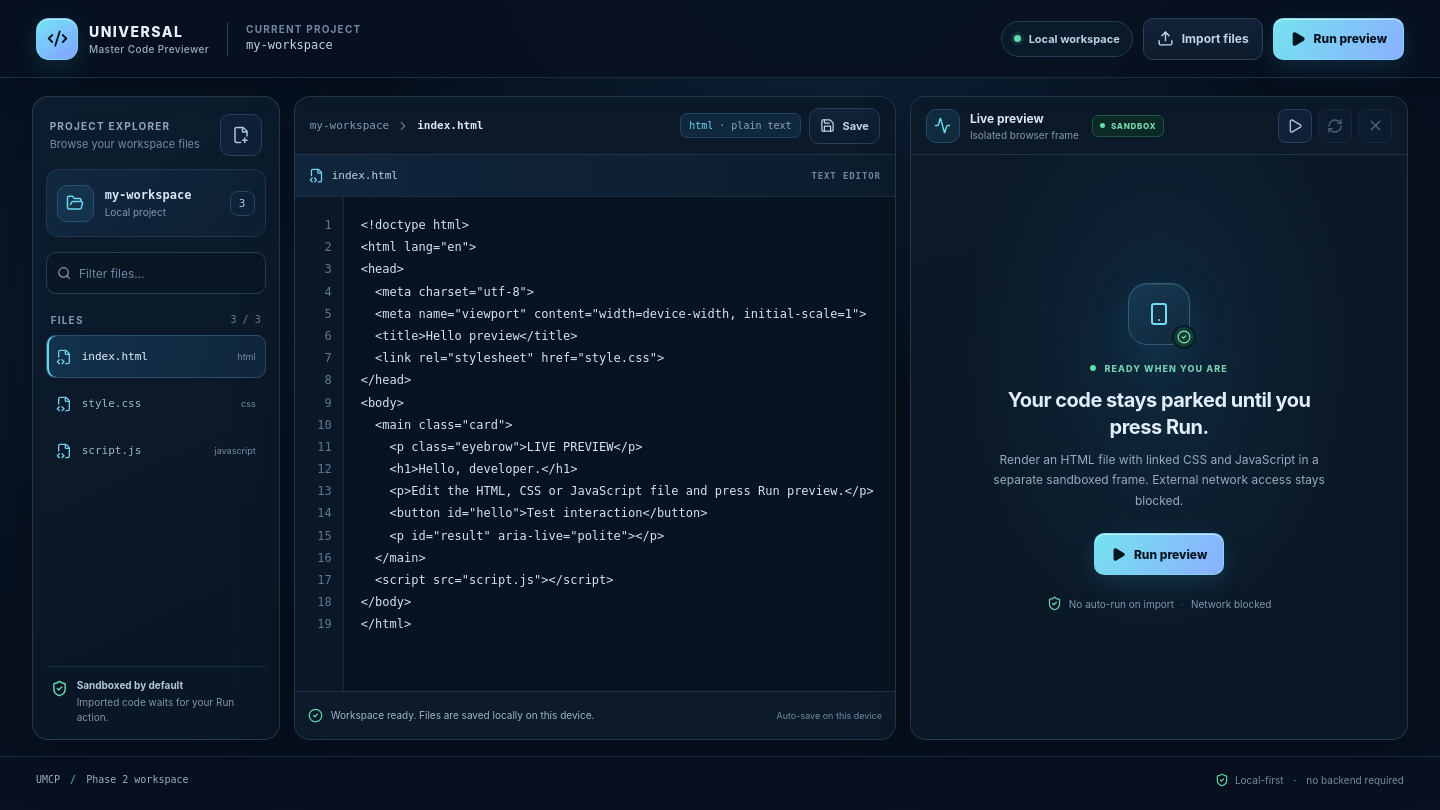
workspace UI › creates a file through the accessible dialog
This screenshot has width=1440, height=810.
Click the button named "New file" at [241, 135], box [220,114,262,156]
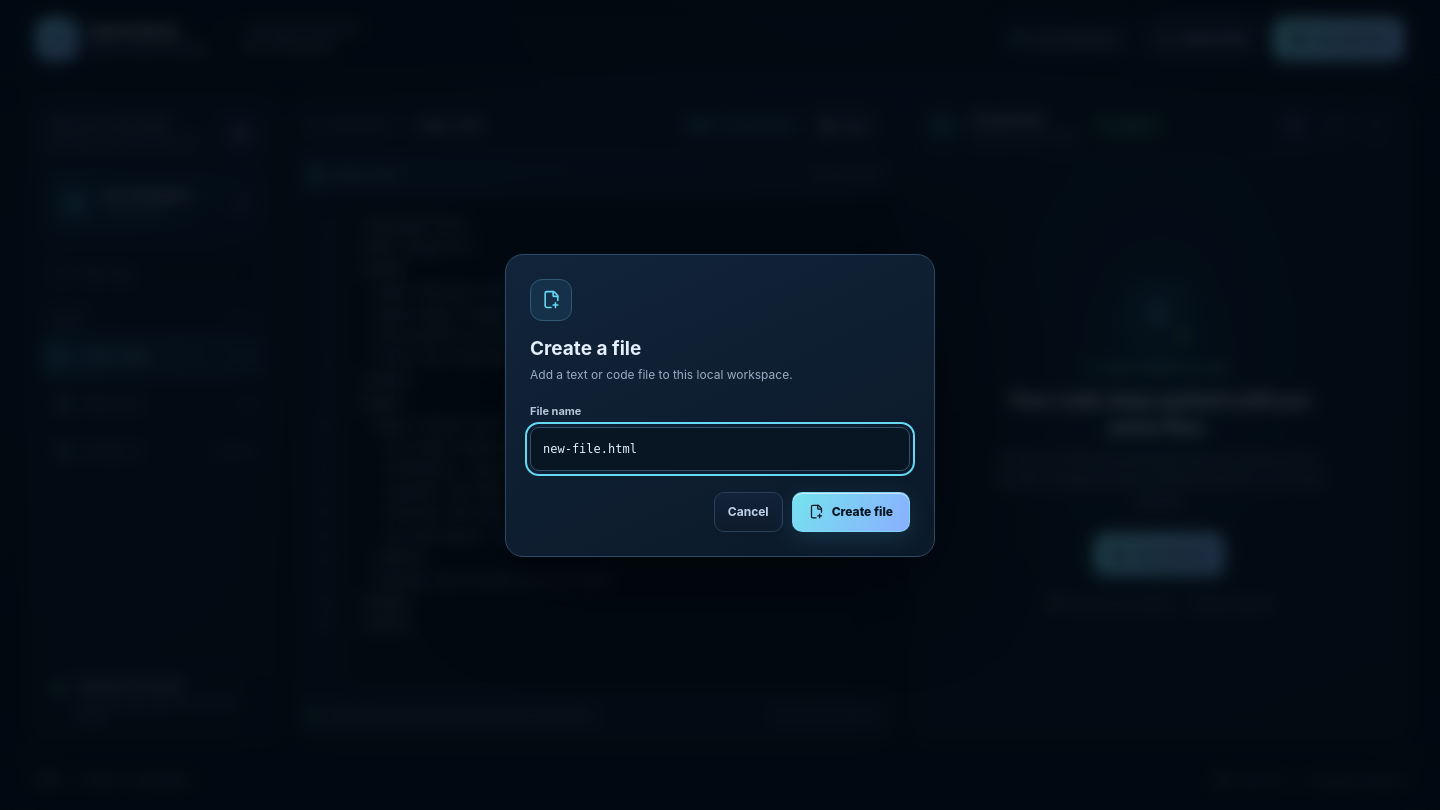
Replace the text in the field labelled "File name" with "notes.md" at [720, 448], box [530,426,910,470]
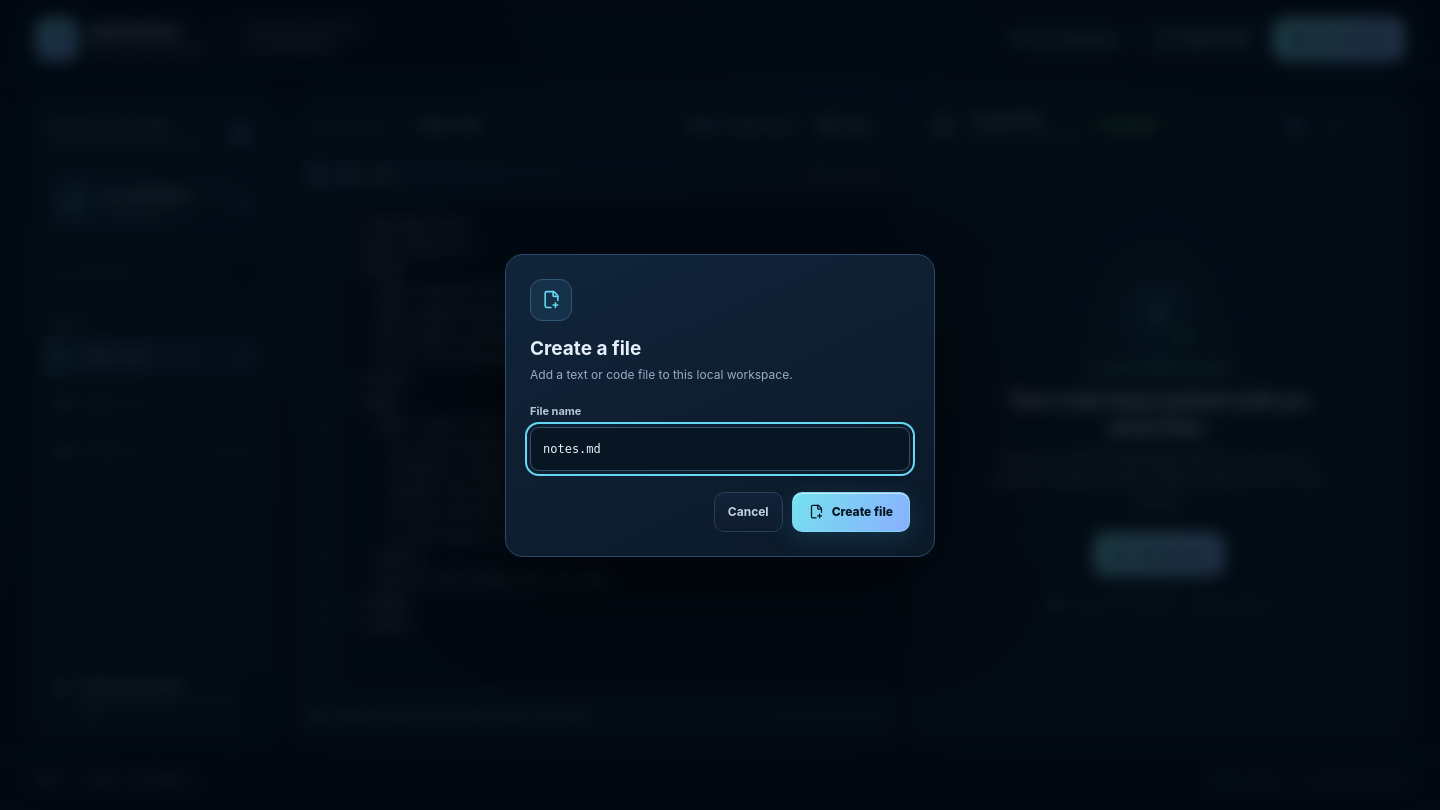
Click the button "Create file" at [851, 512], box [792,492,910,532]
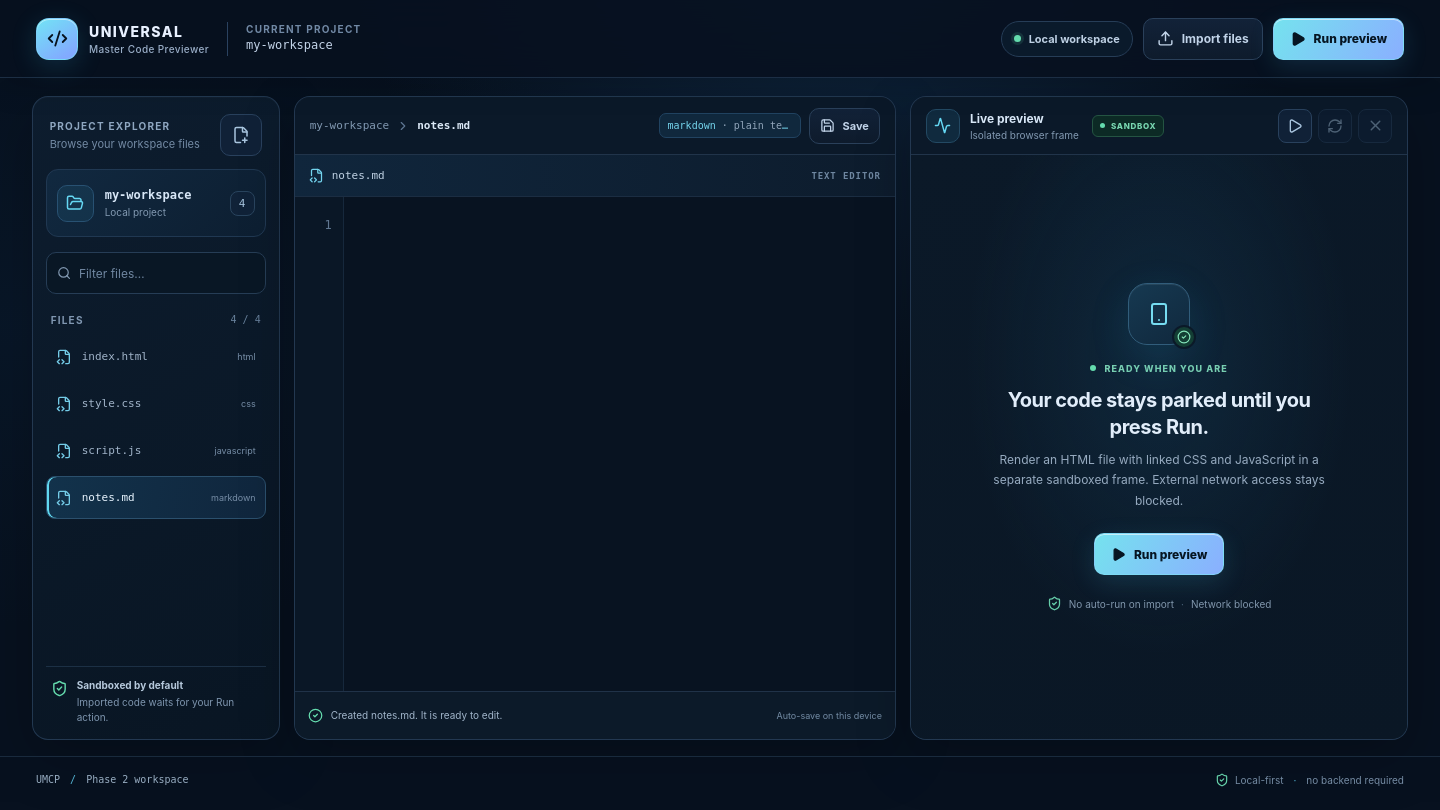
Expected: the dialog is gone
Expected: the text box named "Editor for notes.md" is shown, [343,197,895,691]
Expected: the heading "Create a file" is gone
